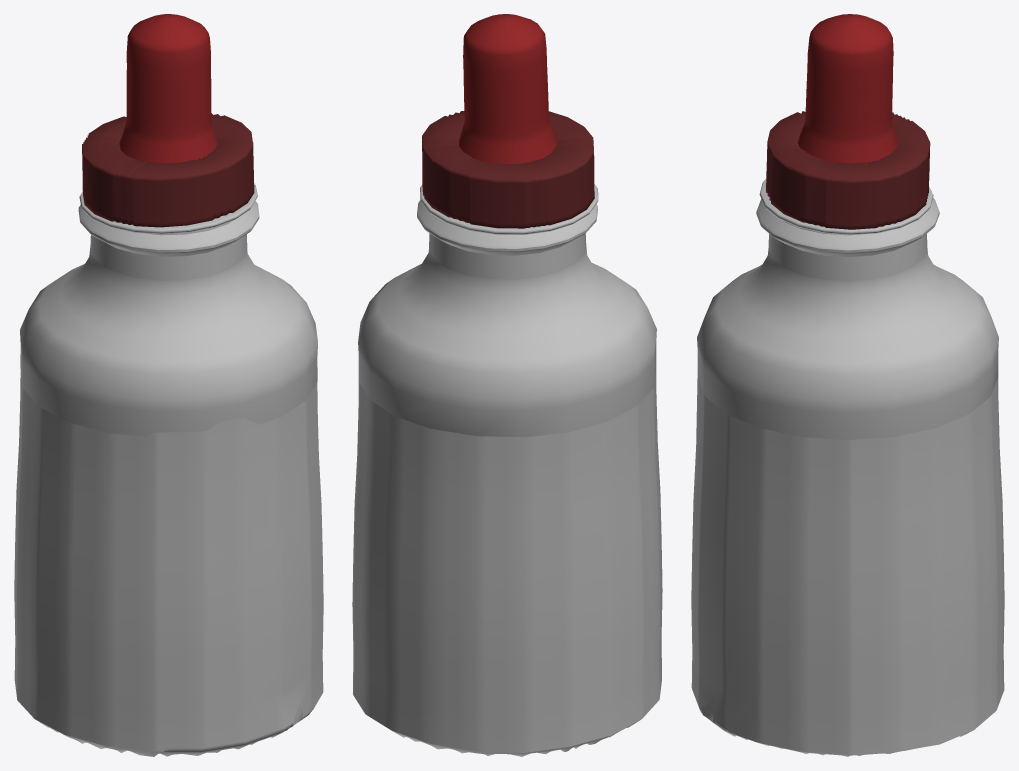
Rendered from botolLarutan.fbx.
3 views of the same model, side by side, from view 1: azimuth 30°, elevation 25°; view 2: azimuth 150°, elevation 25°; view 3: azimuth 270°, elevation 25° (orthographic).
Parts seen in each view (by area): view 1: bottom_of_bottle, top_of_bottle, lid, vacuum_part_thing, bottom_of_lid; view 2: bottom_of_bottle, top_of_bottle, lid, vacuum_part_thing, bottom_of_lid; view 3: bottom_of_bottle, top_of_bottle, lid, vacuum_part_thing, bottom_of_lid.
Boxes of the visible parts, x1,y1,x2,y2 form: bottom_of_bottle: [14, 371, 323, 756]; top_of_bottle: [20, 201, 317, 436]; lid: [82, 113, 254, 227]; vacuum_part_thing: [119, 14, 217, 163]; bottom_of_lid: [79, 183, 257, 234]; bottom_of_bottle: [352, 369, 662, 756]; top_of_bottle: [358, 200, 656, 437]; lid: [422, 111, 594, 228]; vacuum_part_thing: [459, 14, 556, 163]; bottom_of_lid: [420, 184, 598, 234]; bottom_of_bottle: [691, 366, 1004, 756]; top_of_bottle: [697, 197, 998, 439]; lid: [766, 111, 930, 229]; vacuum_part_thing: [798, 14, 897, 163]; bottom_of_lid: [759, 179, 933, 235].
Bounding box in the file's own units: 172 × 415 × 172.
